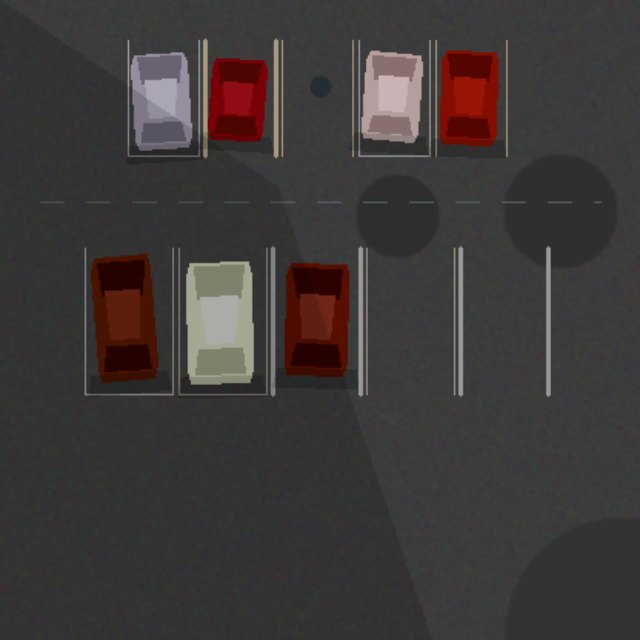space-empty: (366, 248, 454, 394), (460, 248, 548, 394), (282, 40, 352, 155)
space-occupied: (178, 248, 266, 394), (272, 248, 360, 394), (85, 248, 172, 394), (358, 40, 429, 155), (435, 40, 506, 155), (128, 40, 198, 155), (205, 40, 275, 155)
